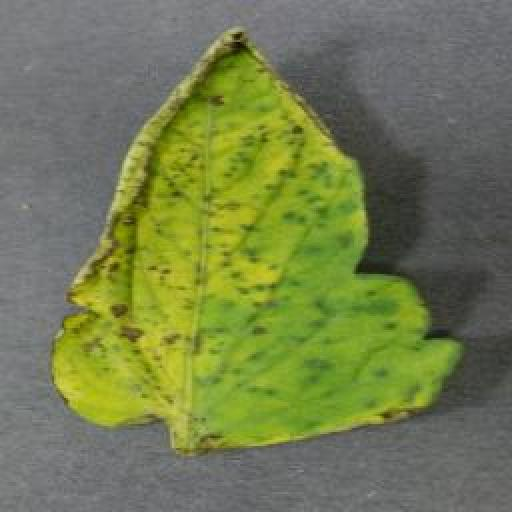Bacterial Spot: (50, 24, 466, 461)
